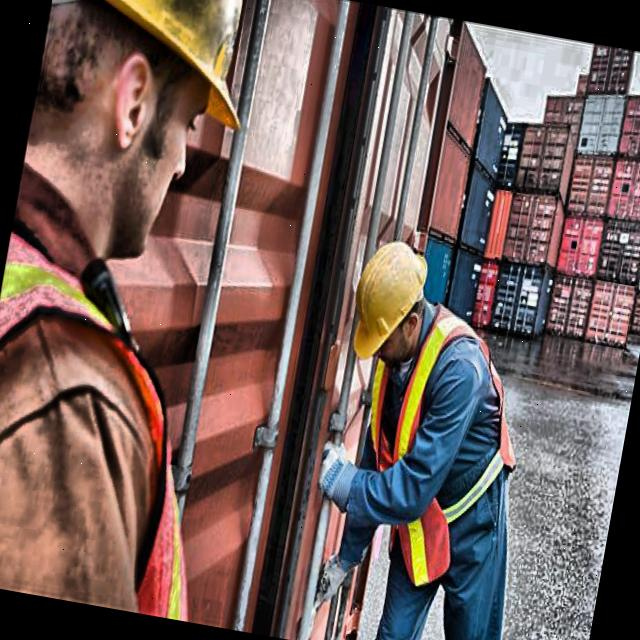helmet: (7, 0, 285, 293), (320, 209, 454, 408)
